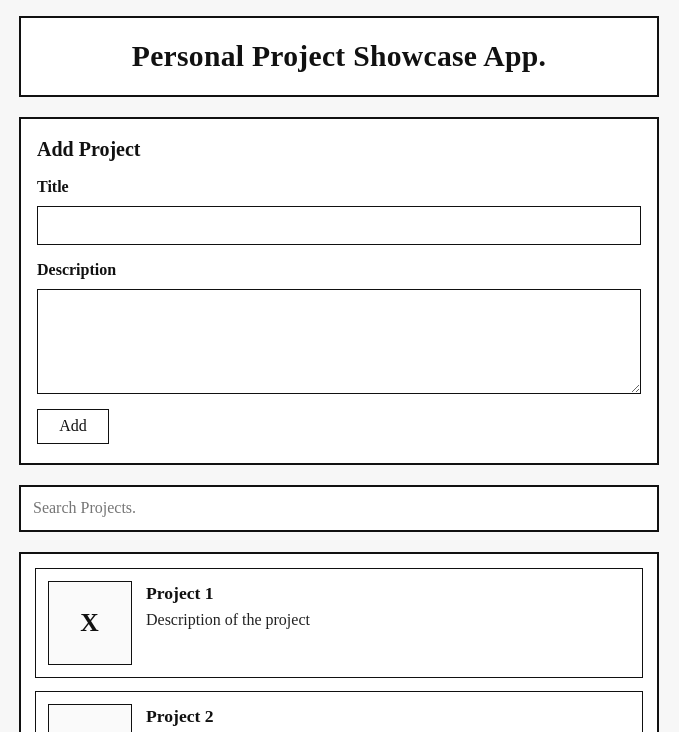
Test: App › filters projects with the search bar
This screenshot has width=679, height=732.
Type "Project 2" into the search field at (339, 508), box x1=19 y1=485 x2=659 y2=532
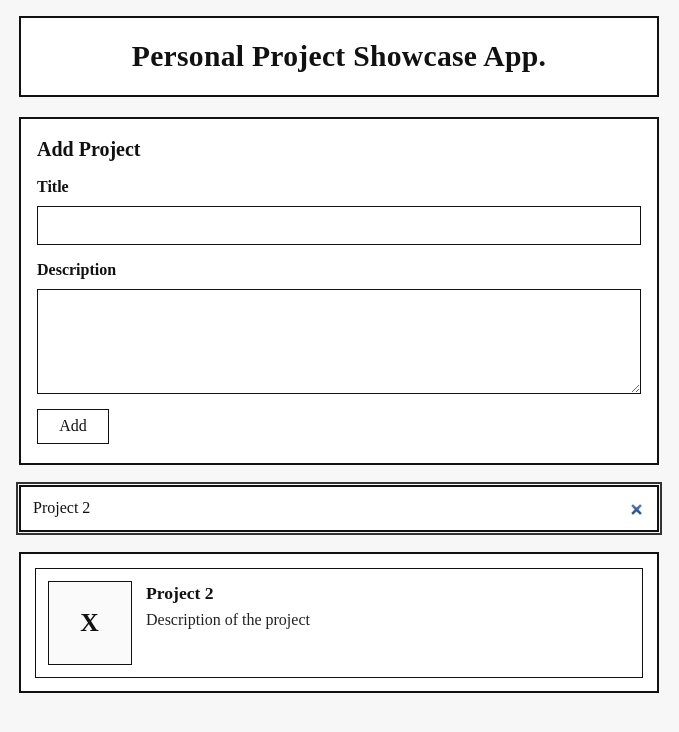
Expected: the heading "Project 2" is shown, x1=146 y1=582 x2=214 y2=602
Result: the heading "Project 1" is gone
